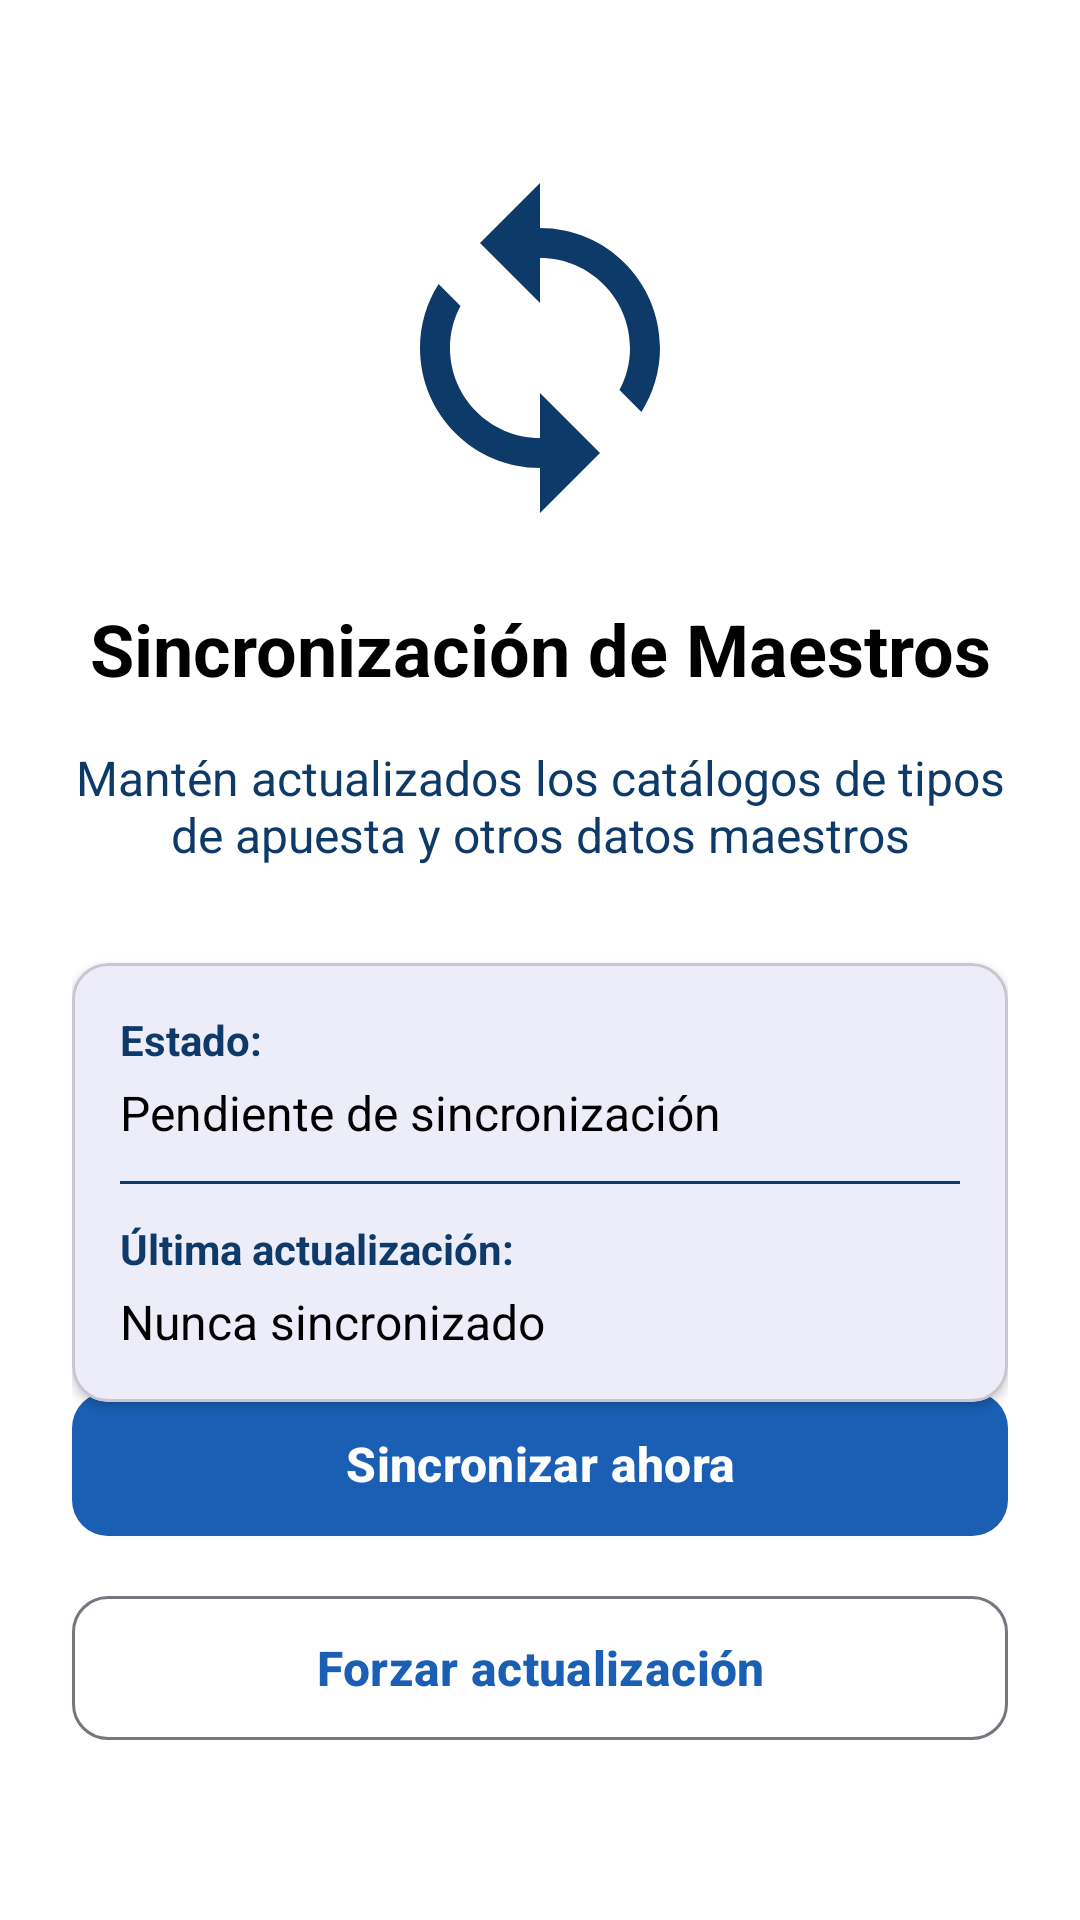

Screen size 1080 x 1920. Icon name, then its center in pixels as (x,y):
sync: (540,348)
